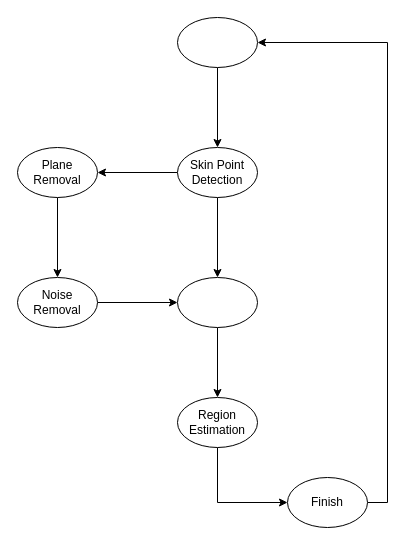
This 413x545 diagram has some shape labels left out. The centre of each missing label's shape, as x and y in pixels:
"Region Growing" goes at [217,302].
"Start" goes at [217,42].
